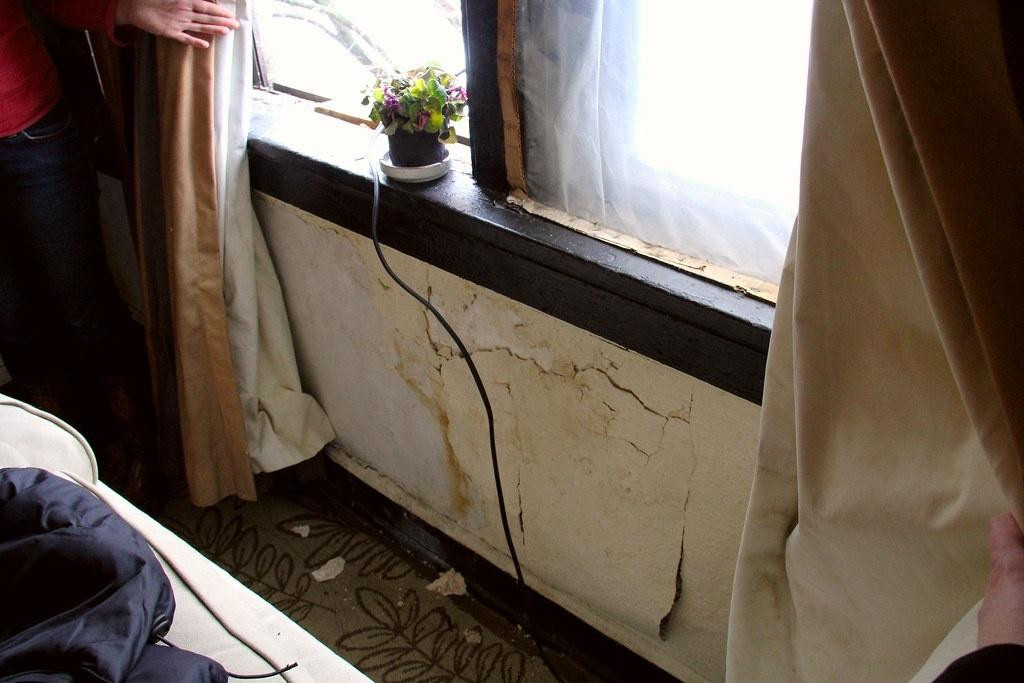Crack: (508, 318, 707, 648), (417, 263, 467, 373)
